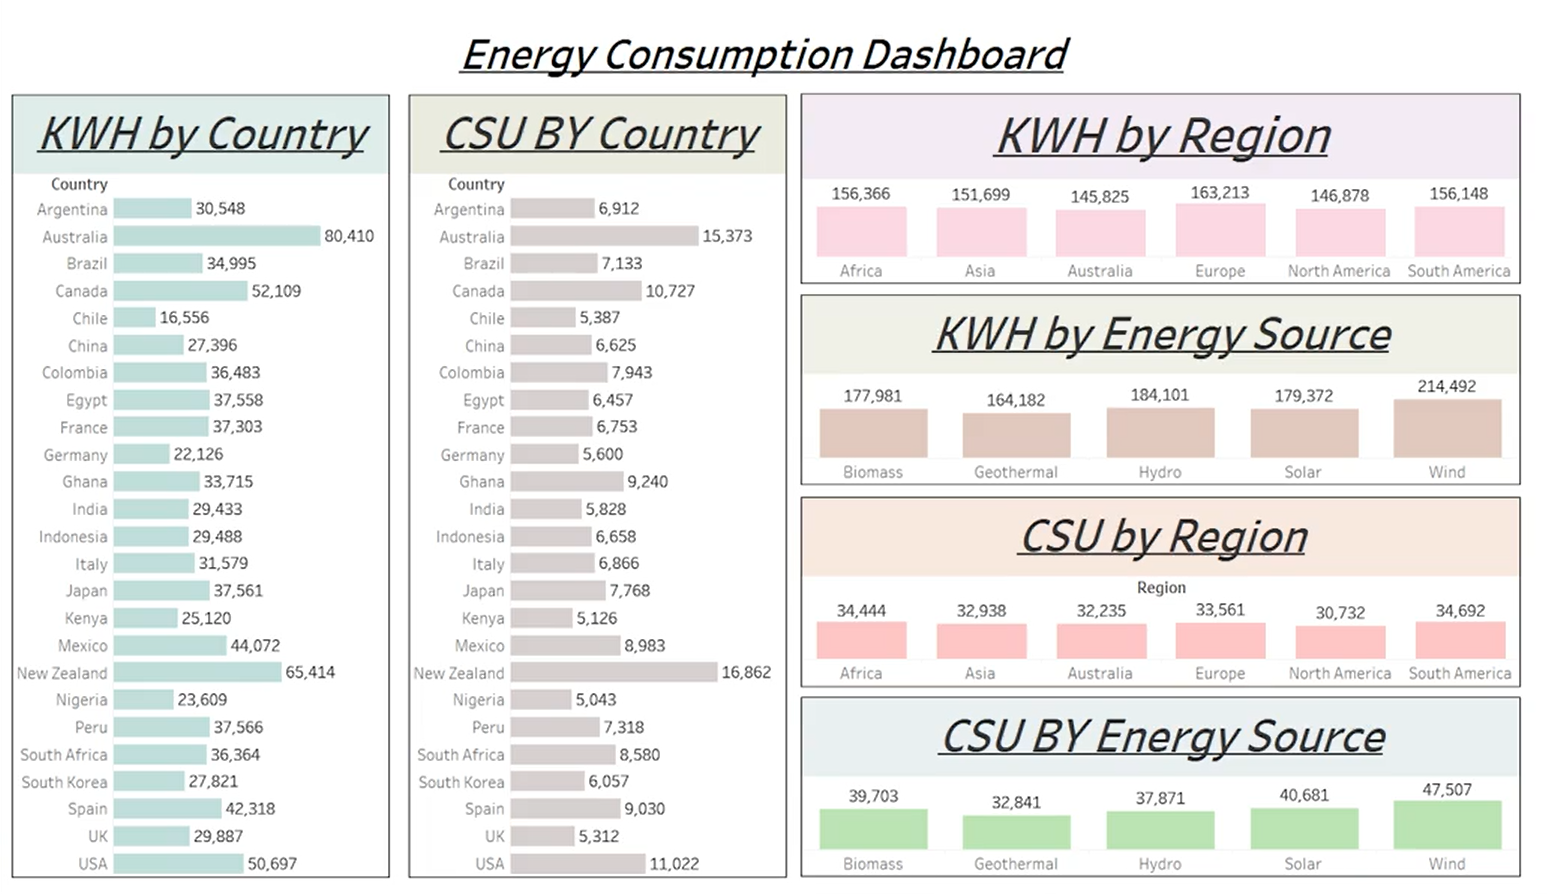

The page's visual inventory and layout, read from the dashboard file:
{"tool":"tableau","page":{"name":"Tableau Dashboard","canvas":[1700,800],"ordinal":0},"visuals":[{"type":"text","box":[17,5,1652,56]},{"type":"worksheet","title":"KWH By Country","mark":"Automatic","rows":["COUNTRY"],"cols":["MONTHLY_USAGE_KWH"],"box":[17,69,402,722]},{"type":"worksheet","title":"CSU By Country","mark":"Automatic","rows":["COUNTRY"],"cols":["COST_SAVINGS_USD"],"box":[432,69,402,723]},{"type":"worksheet","title":"KWH By Region","mark":"Automatic","rows":["MONTHLY_USAGE_KWH"],"cols":["REGION"],"box":[845,70,827,175]},{"type":"worksheet","title":"KWH by energy source","mark":"Automatic","rows":["MONTHLY_USAGE_KWH"],"cols":["ENERGY_SOURCE"],"box":[844,252,827,175]},{"type":"worksheet","title":"CSU By Region","mark":"Automatic","rows":["COST_SAVINGS_USD"],"cols":["REGION"],"box":[844,434,827,175]},{"type":"worksheet","title":"CSU By Energy Source","mark":"Automatic","rows":["COST_SAVINGS_USD"],"cols":["ENERGY_SOURCE"],"box":[845,617,827,175]}]}

Visuals, with their boxes in screenshot pixels (x1, y1, x2, y2):
text: 16/89/1546/141
"KWH By Country" worksheet: 16/149/390/821
"CSU By Country" worksheet: 402/149/776/821
"KWH By Region" worksheet: 786/150/1546/313
"KWH by energy source" worksheet: 785/319/1546/482
"CSU By Region" worksheet: 785/488/1546/651
"CSU By Energy Source" worksheet: 786/659/1546/821
